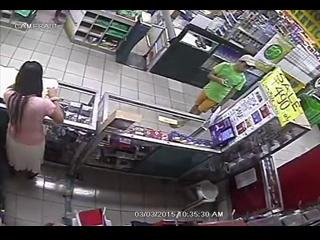Normal: (3, 60, 65, 180), (188, 55, 255, 118)
